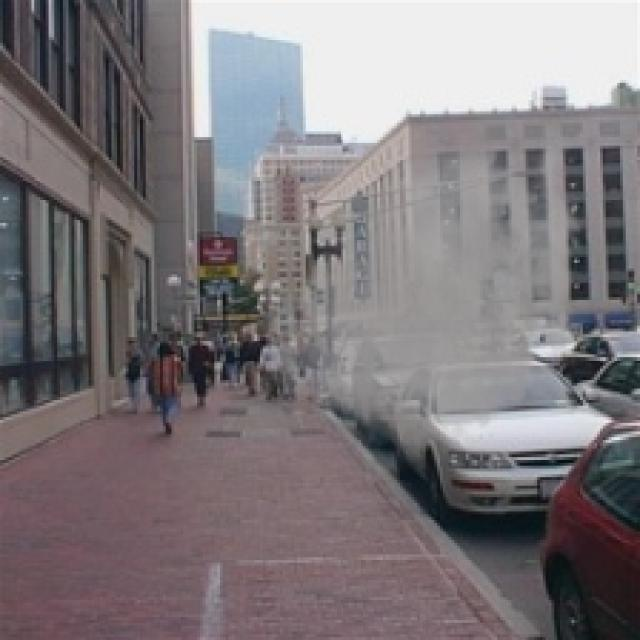smoke: (254, 114, 597, 472)
